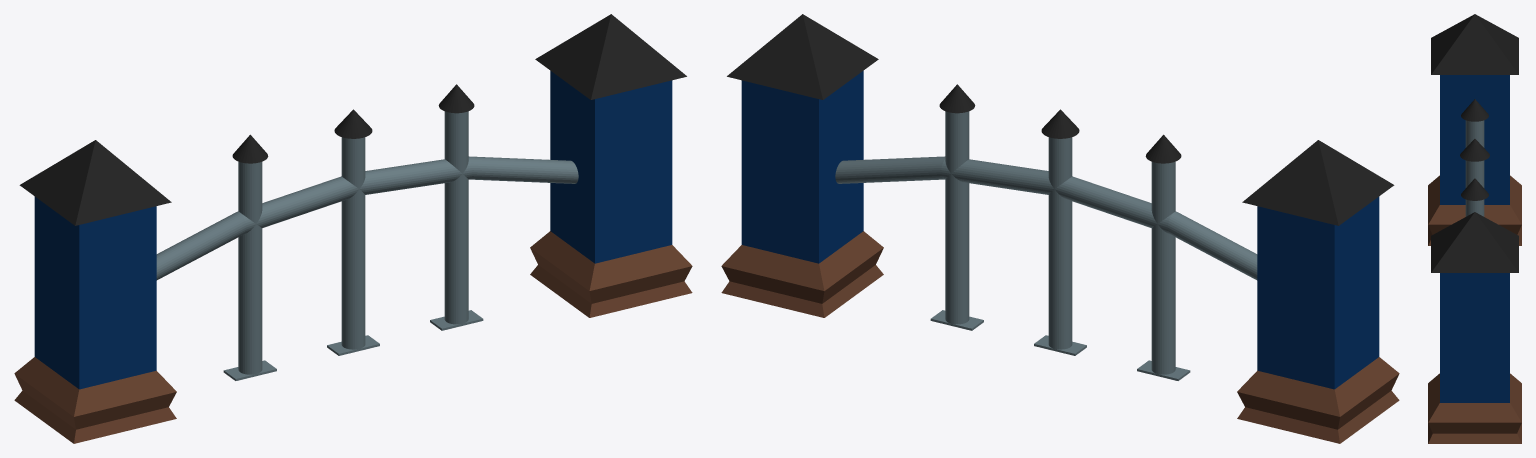
Rendered from casinoRail.fbx.
The picture shows the model from 3 angles, left to right: view 1: azimuth 30°, elevation 25°; view 2: azimuth 150°, elevation 25°; view 3: azimuth 270°, elevation 25°; orthographic projection. The views are drawn at different scales.
Parts seen in each view (by area): view 1: Cube.001; view 2: Cube.001; view 3: Cube.001.
Part boxes in pixels (x1,y1,x2,y2): Cube.001: (14,14,692,443); Cube.001: (721,14,1399,443); Cube.001: (1428,14,1521,443).
Bounding box in the file's own units: 300 × 125 × 50.
